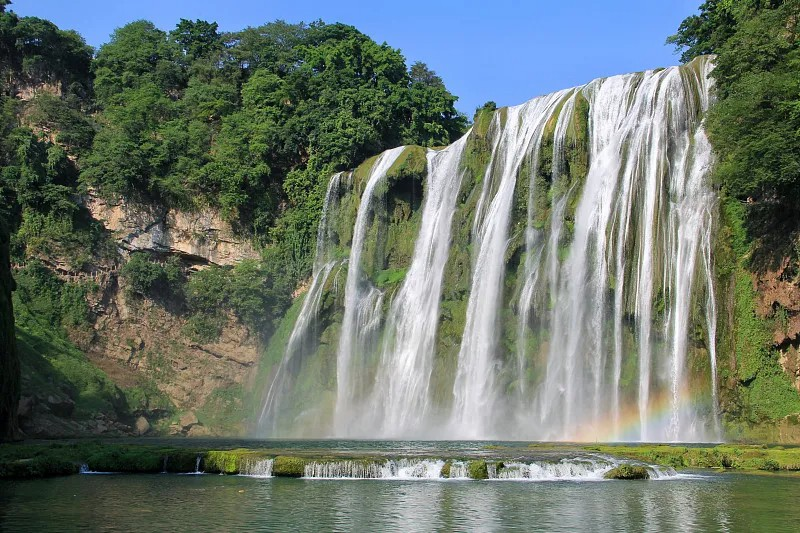Huangguoshu: (259, 55, 721, 442)
